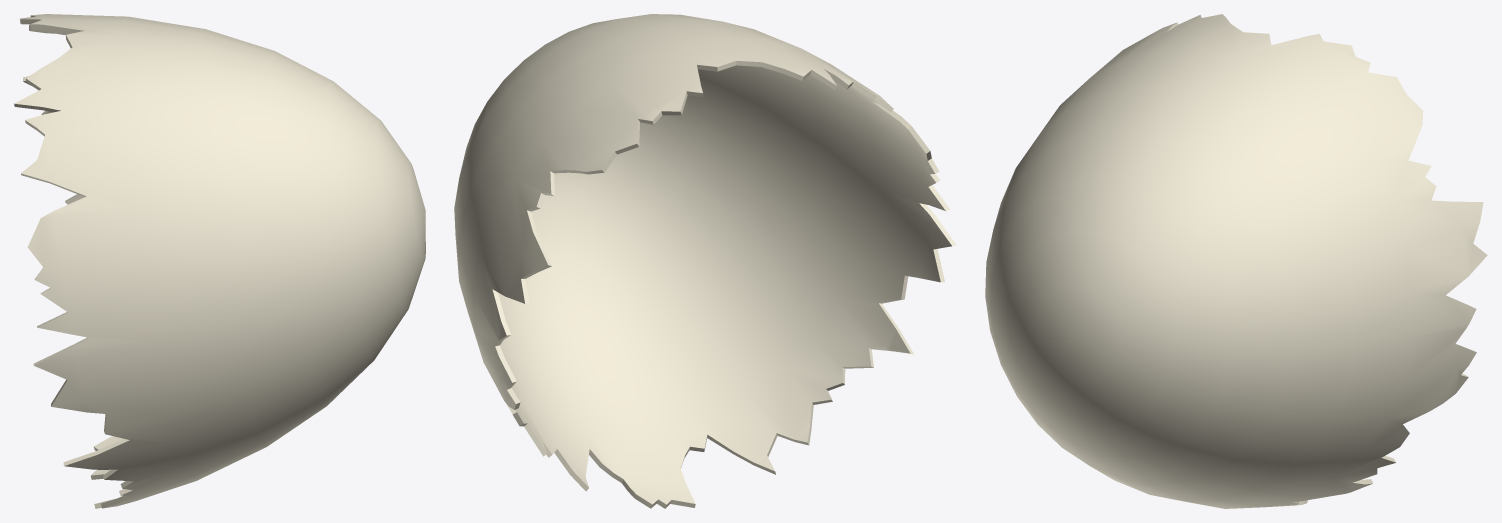
File: eggshell2.fbx
The picture shows the model from 3 angles, left to right: view 1: azimuth 30°, elevation 25°; view 2: azimuth 150°, elevation 25°; view 3: azimuth 270°, elevation 25°; orthographic projection.
Parts seen in each view (by area): view 1: Shell; view 2: Shell; view 3: Shell.
Boxes of the visible parts, x1,y1,x2,y2 form: Shell: (14, 14, 425, 508); Shell: (454, 14, 956, 508); Shell: (985, 14, 1487, 508).
Bounding box in the file's own units: 39.72 × 40.6 × 40.86.
